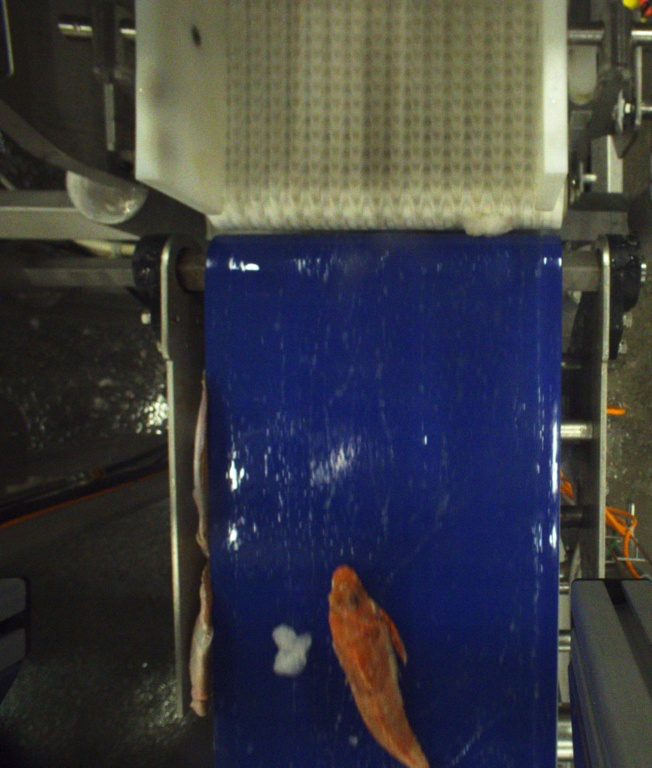GUU: (329, 567, 429, 768)
